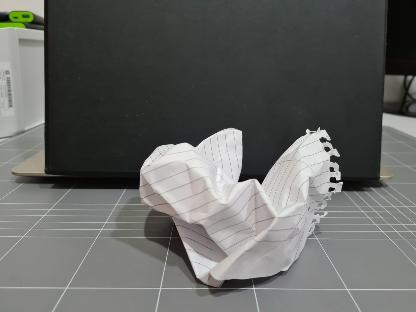Paper: (138, 134, 342, 278)
